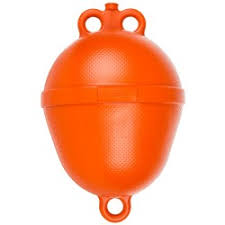buoy: (42, 37, 186, 193)
